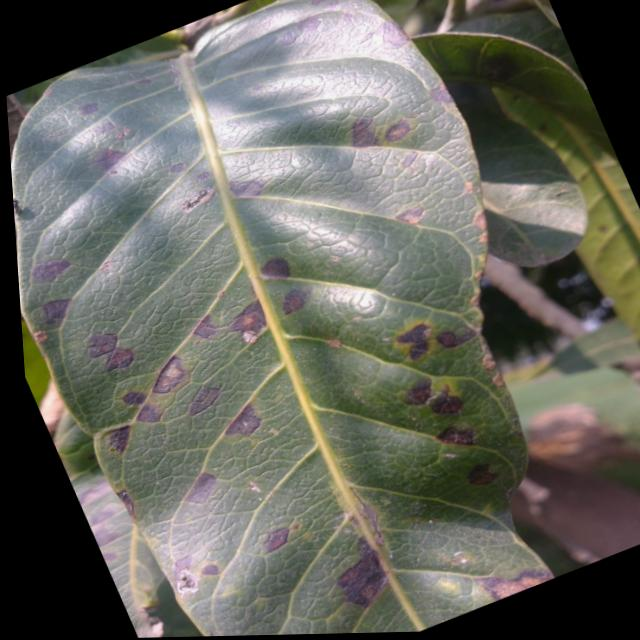black die: (330, 540, 399, 614), (478, 564, 555, 603), (141, 349, 192, 398), (228, 298, 274, 345), (149, 355, 191, 401), (223, 405, 263, 445), (185, 381, 221, 422), (184, 469, 219, 510), (402, 375, 439, 413), (177, 184, 216, 218), (28, 257, 73, 285), (82, 326, 121, 358), (376, 16, 410, 52), (275, 285, 309, 318), (84, 330, 121, 359), (260, 524, 294, 555), (394, 322, 433, 348), (92, 146, 126, 174), (437, 423, 475, 448), (435, 328, 477, 350), (350, 117, 379, 148), (41, 297, 74, 324), (115, 488, 142, 521), (192, 314, 221, 344), (106, 426, 135, 455), (102, 347, 135, 372), (382, 118, 413, 144), (397, 205, 427, 230), (428, 83, 455, 110), (91, 522, 118, 547), (260, 257, 291, 278), (136, 402, 163, 425), (431, 394, 462, 414), (467, 464, 498, 484), (229, 180, 263, 198), (175, 570, 198, 596), (469, 210, 491, 234), (298, 15, 322, 34), (408, 340, 428, 362), (478, 350, 497, 373), (490, 371, 508, 390), (122, 392, 145, 406), (167, 161, 187, 176), (77, 102, 98, 116), (193, 170, 212, 184), (33, 329, 49, 345), (115, 125, 130, 142), (102, 549, 117, 563), (201, 564, 218, 575), (327, 339, 341, 348), (135, 77, 151, 84), (311, 0, 327, 5)
